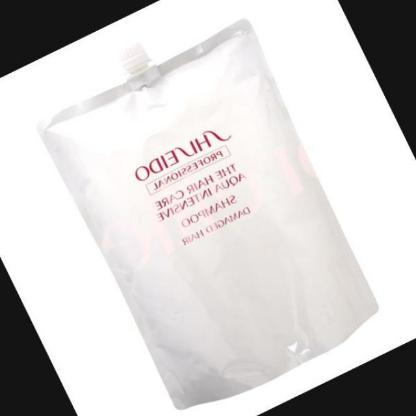Plastic Packaging: (40, 18, 380, 410)
